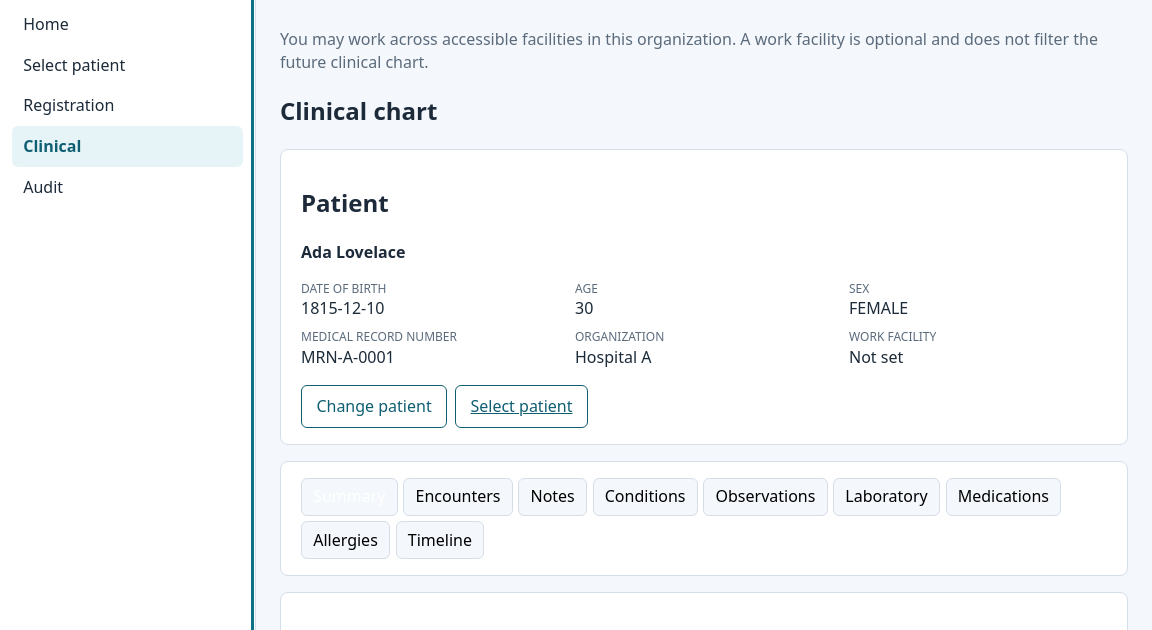
Scenario: clinical chart revocation, notes, labs, xss, a11y › renders laboratory and notes without inventing nested data or loading note bodies
This screenshot has width=1152, height=630.
Click the button "Laboratory". click: (887, 497)
box: [833,478,940,516]
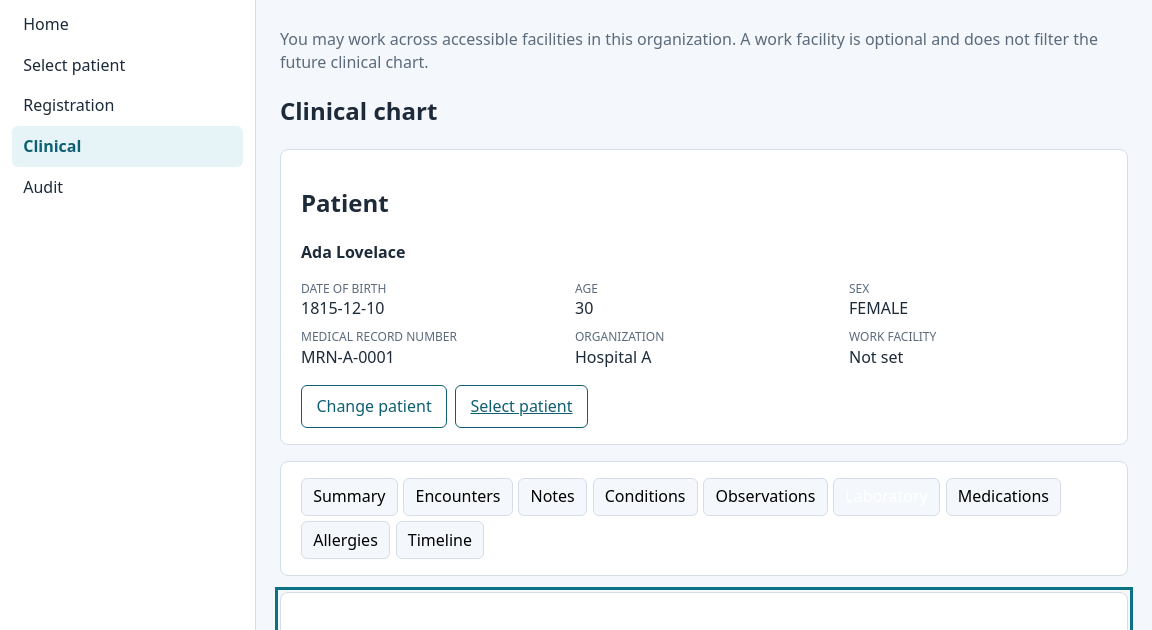
Click the button "Notes". click: (553, 497)
box: [518,478,587,516]
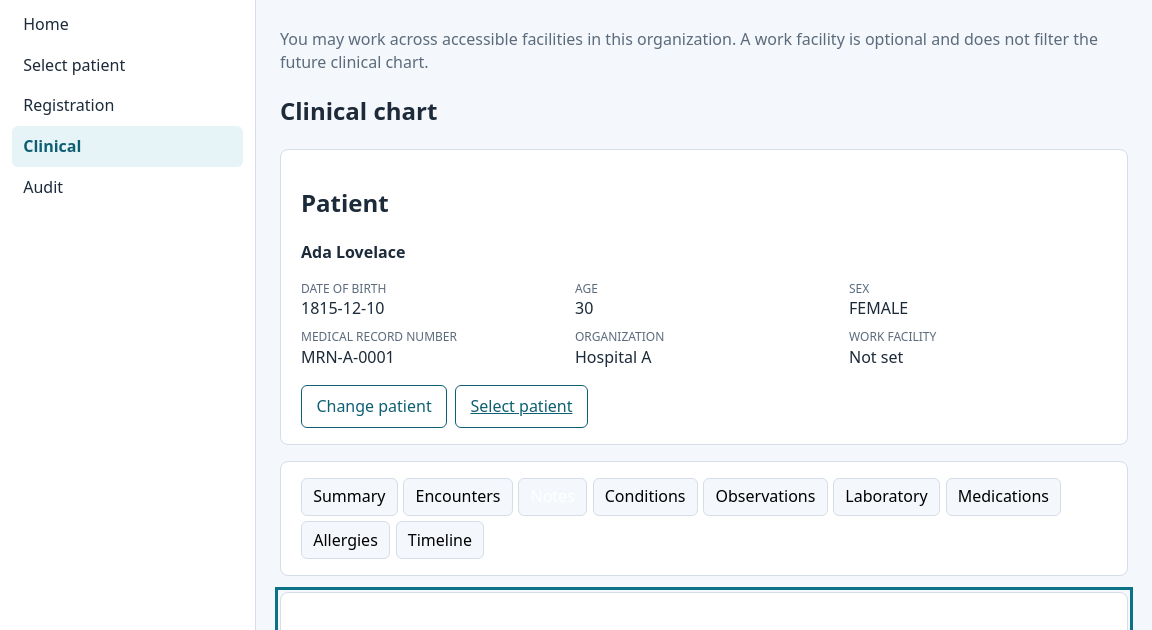
Click the button "Observations". click: (765, 497)
box: [703,478,828,516]
(page scrolled)
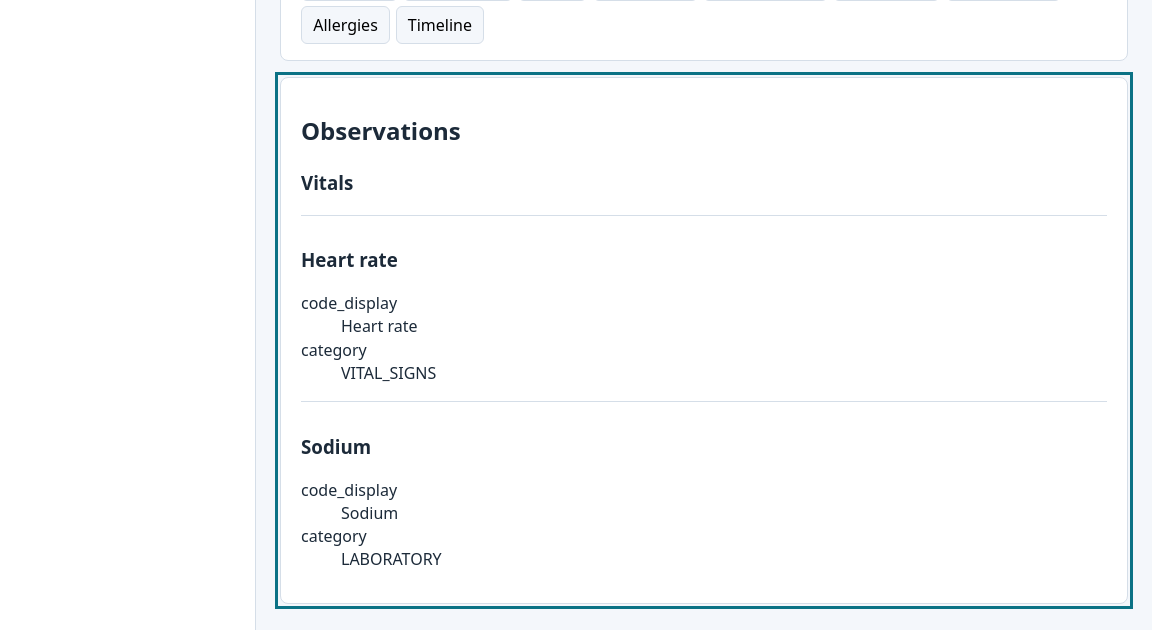
Now the heading "Sodium" is shown, box [301,434,371,459]
